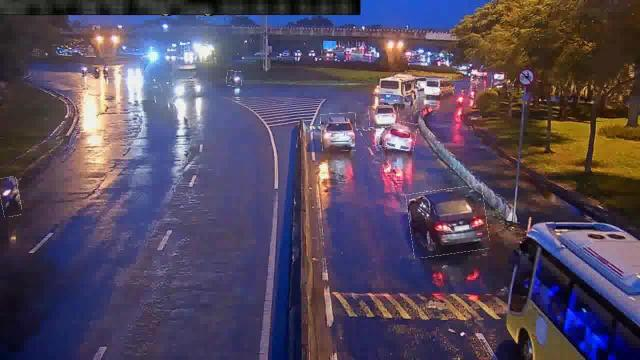Bike: (0, 176, 20, 217), (226, 71, 242, 87)
Car: (408, 187, 488, 256), (322, 113, 356, 151), (379, 120, 416, 150), (369, 105, 399, 127)
